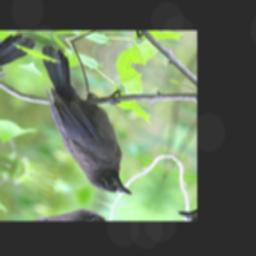Crow: (2, 41, 170, 202)
